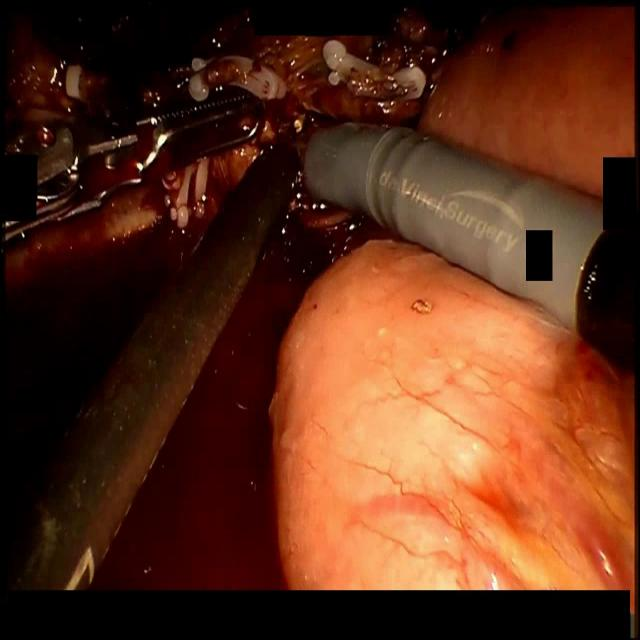surgical-area: (0, 0, 636, 590), (90, 175, 640, 589)
surgical-tool: (4, 145, 302, 589), (303, 118, 639, 379), (0, 81, 266, 243)
